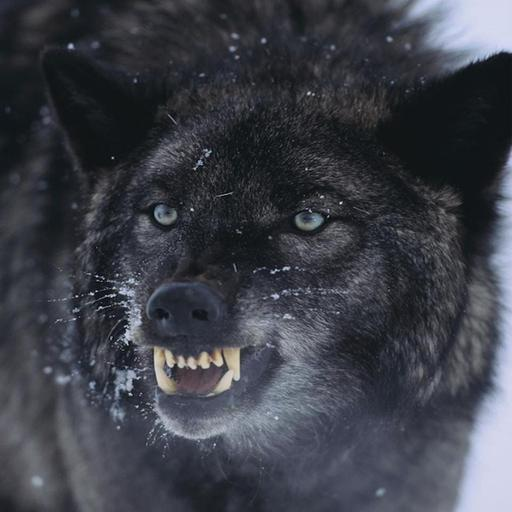Wolf: (0, 0, 512, 508)
